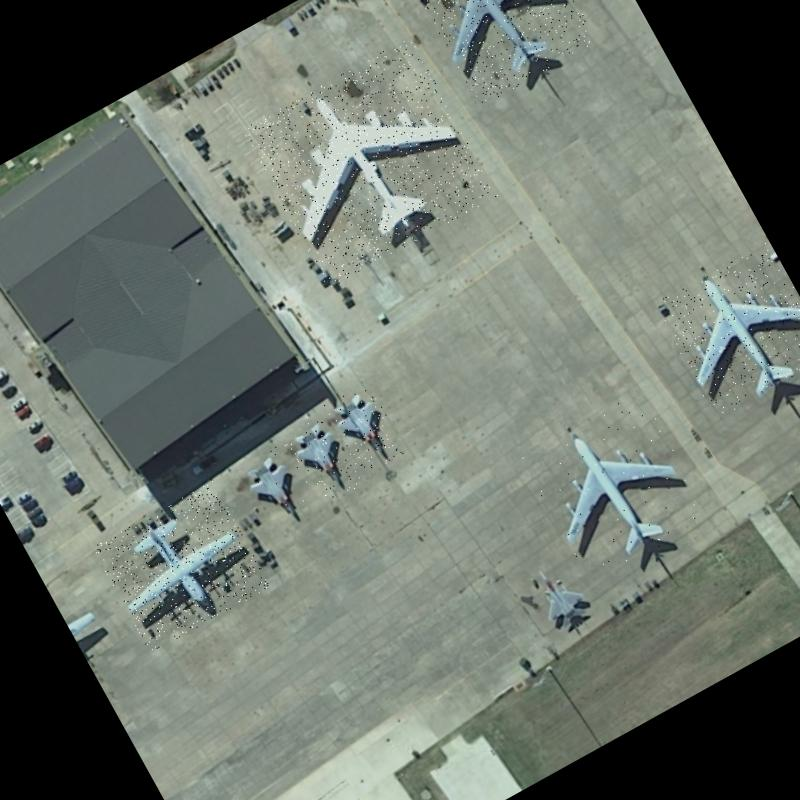A11: (520, 390, 712, 585), (652, 239, 800, 419)
A13: (517, 547, 605, 647), (322, 380, 407, 477), (280, 413, 364, 508), (234, 442, 316, 532)
A14: (405, 0, 598, 107)
A2: (92, 480, 271, 653)
A8: (240, 36, 498, 289)
